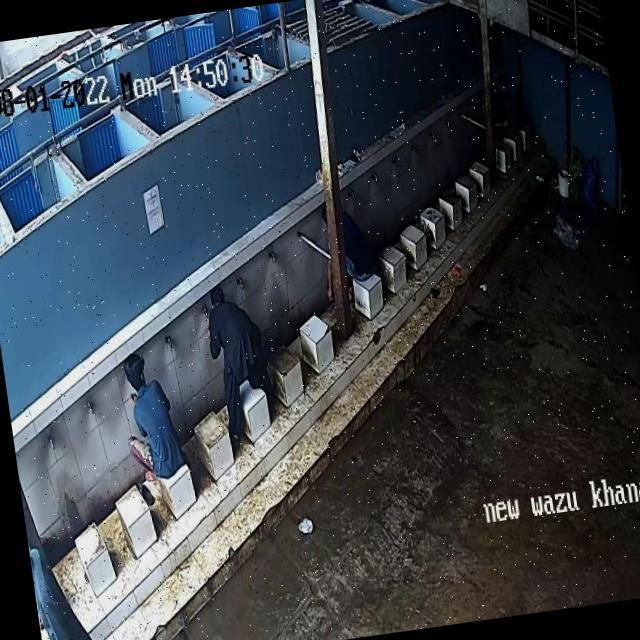person: (116, 351, 186, 482), (206, 281, 276, 409), (334, 205, 374, 282)
